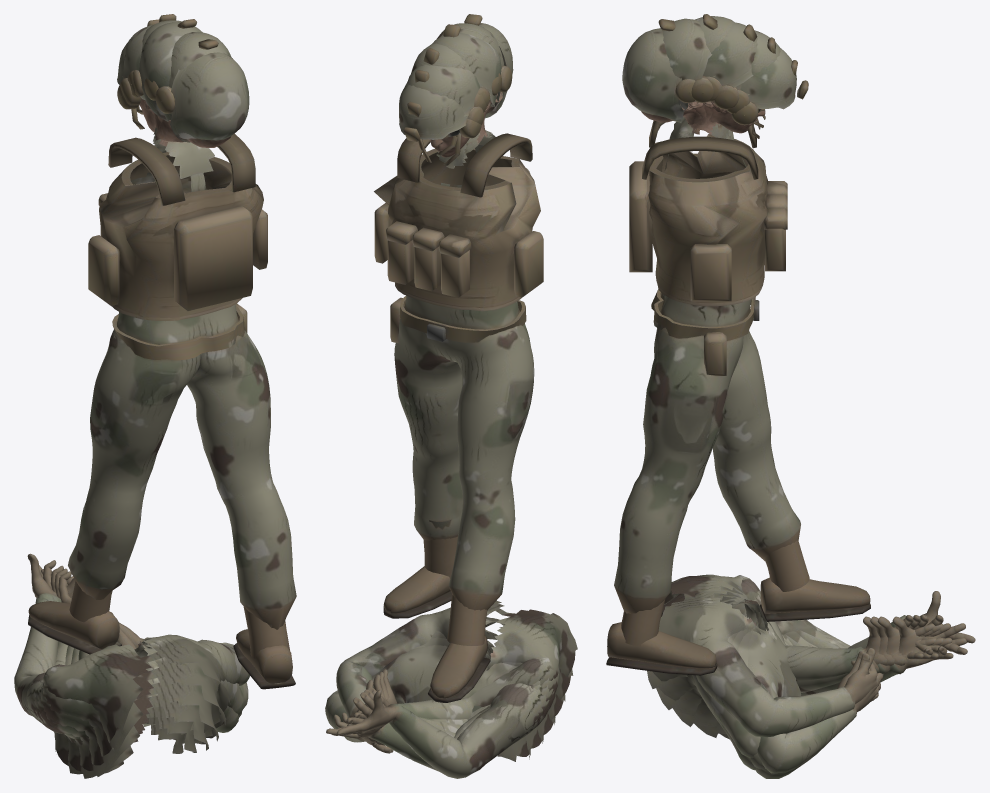
Rendered from crew_stinger.glb.
The picture shows the model from 3 angles, left to right: view 1: azimuth 30°, elevation 25°; view 2: azimuth 150°, elevation 25°; view 3: azimuth 270°, elevation 25°; orthographic projection. The views are drawn at different scales.
Parts seen in each view (by area): view 1: turret|STR_ocp, ca5|STR_ocp, th5|STR_ocp, ca4|STR_ocp, ca0|STR_ocp, ca3|STR_ocp, ca2|STR_ocp, th3|STR_ocp, ca1|STR_ocp, th0|STR_ocp, th4|STR_ocp, th1|STR_ocp; view 2: turret|STR_ocp, ca0|STR_ocp, ca5|STR_ocp, th0|STR_ocp, th1|STR_ocp, ca1|STR_ocp, th3|STR_ocp, th5|STR_ocp, ca3|STR_ocp, ca4|STR_ocp, th2|STR_ocp, ca2|STR_ocp (+1 smaller); view 3: turret|STR_ocp, ca5|STR_ocp, ca0|STR_ocp, th5|STR_ocp, ca4|STR_ocp, th0|STR_ocp, th4|STR_ocp, th2|STR_ocp, ca1|STR_ocp, ca3|STR_ocp, ca2|STR_ocp, th3|STR_ocp (+1 smaller).
Boxes of the visible parts, x1,y1,x2,y2 form: turret|STR_ocp: (28,133,296,689); ca5|STR_ocp: (43,572,249,750); th5|STR_ocp: (153,39,249,174); ca4|STR_ocp: (42,571,244,756); ca0|STR_ocp: (14,553,248,774); ca3|STR_ocp: (40,568,238,767); ca2|STR_ocp: (37,565,241,776); th3|STR_ocp: (132,14,213,178); ca1|STR_ocp: (34,560,196,778); th0|STR_ocp: (117,42,214,178); th4|STR_ocp: (144,19,231,177); th1|STR_ocp: (120,24,213,178); turret|STR_ocp: (374,133,543,702); ca0|STR_ocp: (325,651,538,778); ca5|STR_ocp: (336,600,577,745); th0|STR_ocp: (399,81,495,167); th1|STR_ocp: (407,64,494,167); ca1|STR_ocp: (339,645,543,771); th3|STR_ocp: (423,33,501,166); th5|STR_ocp: (437,14,513,167); ca3|STR_ocp: (357,629,565,750); ca4|STR_ocp: (367,617,573,753); th2|STR_ocp: (411,43,494,168); ca2|STR_ocp: (347,640,555,751); turret|STR_ocp: (606,120,870,675); ca5|STR_ocp: (653,574,933,737); ca0|STR_ocp: (720,591,975,773); th5|STR_ocp: (622,19,734,140); ca4|STR_ocp: (647,586,936,758); th0|STR_ocp: (669,48,808,139); th4|STR_ocp: (662,14,733,139); th2|STR_ocp: (677,22,775,138); ca1|STR_ocp: (694,600,966,778); ca3|STR_ocp: (656,591,943,770); ca2|STR_ocp: (672,596,952,771); th3|STR_ocp: (680,16,757,139).
Bounding box in the file's own units: 0.663 × 2.16 × 0.9902.
13 materials, 13 textured.
